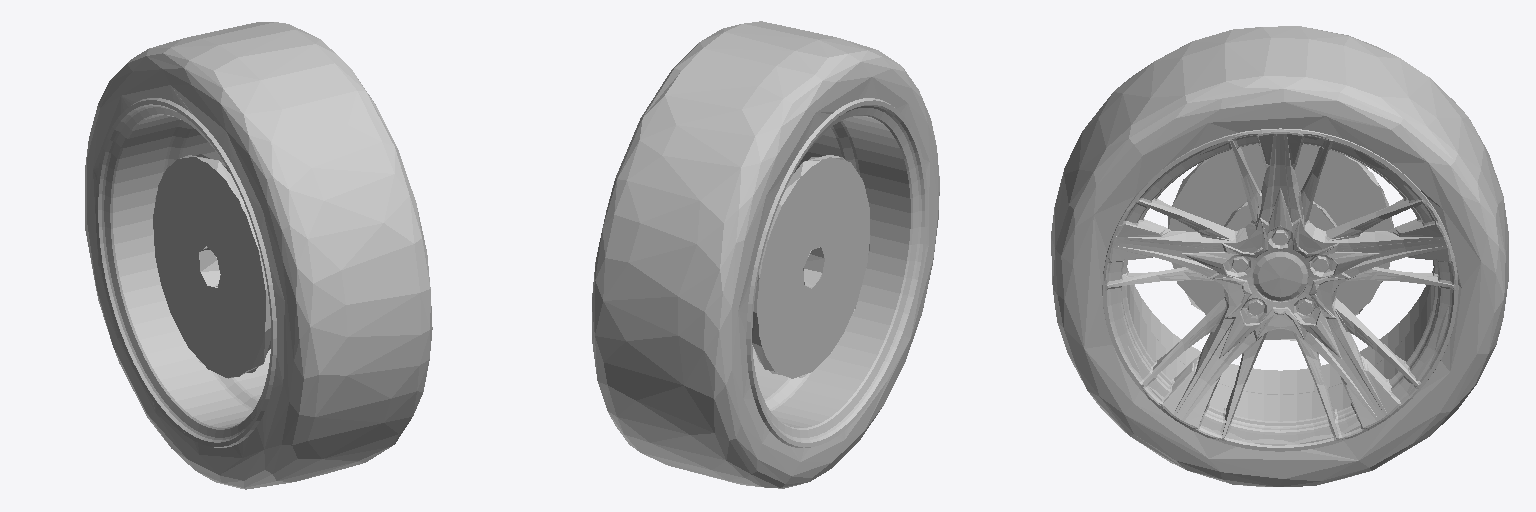
Rendered from Car Wheel.obj.
The picture shows the model from 3 angles: view 1: azimuth 30°, elevation 25°; view 2: azimuth 150°, elevation 25°; view 3: azimuth 270°, elevation 25°; orthographic projection.
Visible parts, largest first — view 1: lowpoly_tire2.020, lowpoly_tire2.033, lowpoly_tire2.028, lowpoly_tire2.024, lowpoly_tire2.025; view 2: lowpoly_tire2.020, lowpoly_tire2.033, lowpoly_tire2.028, lowpoly_tire2.024, lowpoly_tire2.025; view 3: lowpoly_tire2.020, lowpoly_tire2.033, lowpoly_tire2.030, lowpoly_tire2.039, lowpoly_tire2.032, lowpoly_tire2.029.
Boxes of the visible parts, box(x1,y1,x2,y2) form: lowpoly_tire2.020: box(85, 22, 432, 489); lowpoly_tire2.033: box(95, 98, 276, 447); lowpoly_tire2.028: box(153, 157, 265, 377); lowpoly_tire2.024: box(153, 155, 270, 378); lowpoly_tire2.025: box(199, 247, 220, 286); lowpoly_tire2.020: box(592, 21, 939, 488); lowpoly_tire2.033: box(746, 98, 927, 447); lowpoly_tire2.028: box(757, 157, 869, 378); lowpoly_tire2.024: box(752, 155, 869, 377); lowpoly_tire2.025: box(803, 247, 824, 287); lowpoly_tire2.020: box(1051, 26, 1508, 486); lowpoly_tire2.033: box(1102, 128, 1458, 451); lowpoly_tire2.030: box(1169, 144, 1392, 339); lowpoly_tire2.039: box(1181, 188, 1379, 358); lowpoly_tire2.032: box(1253, 252, 1307, 300); lowpoly_tire2.029: box(1226, 204, 1334, 230).
Size of the model in its own units: 0.2472 by 0.6849 by 0.6858.